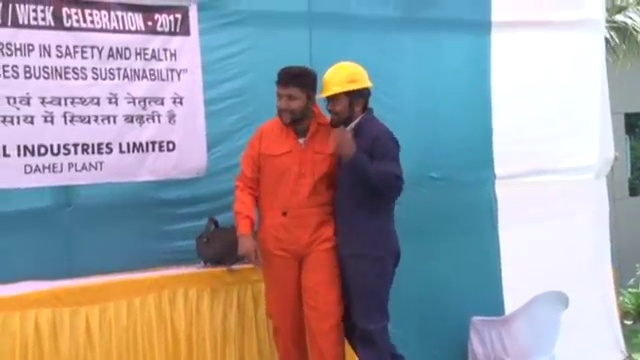helmet: (313, 60, 373, 100)
helmet_off: (275, 64, 313, 124)
helmet_on: (313, 59, 374, 129)
person: (237, 62, 348, 360), (315, 60, 412, 360)
